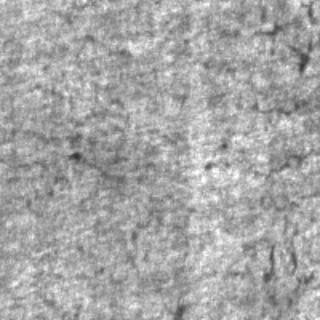crazing: (0, 6, 140, 208), (196, 138, 316, 318), (131, 2, 315, 108)
